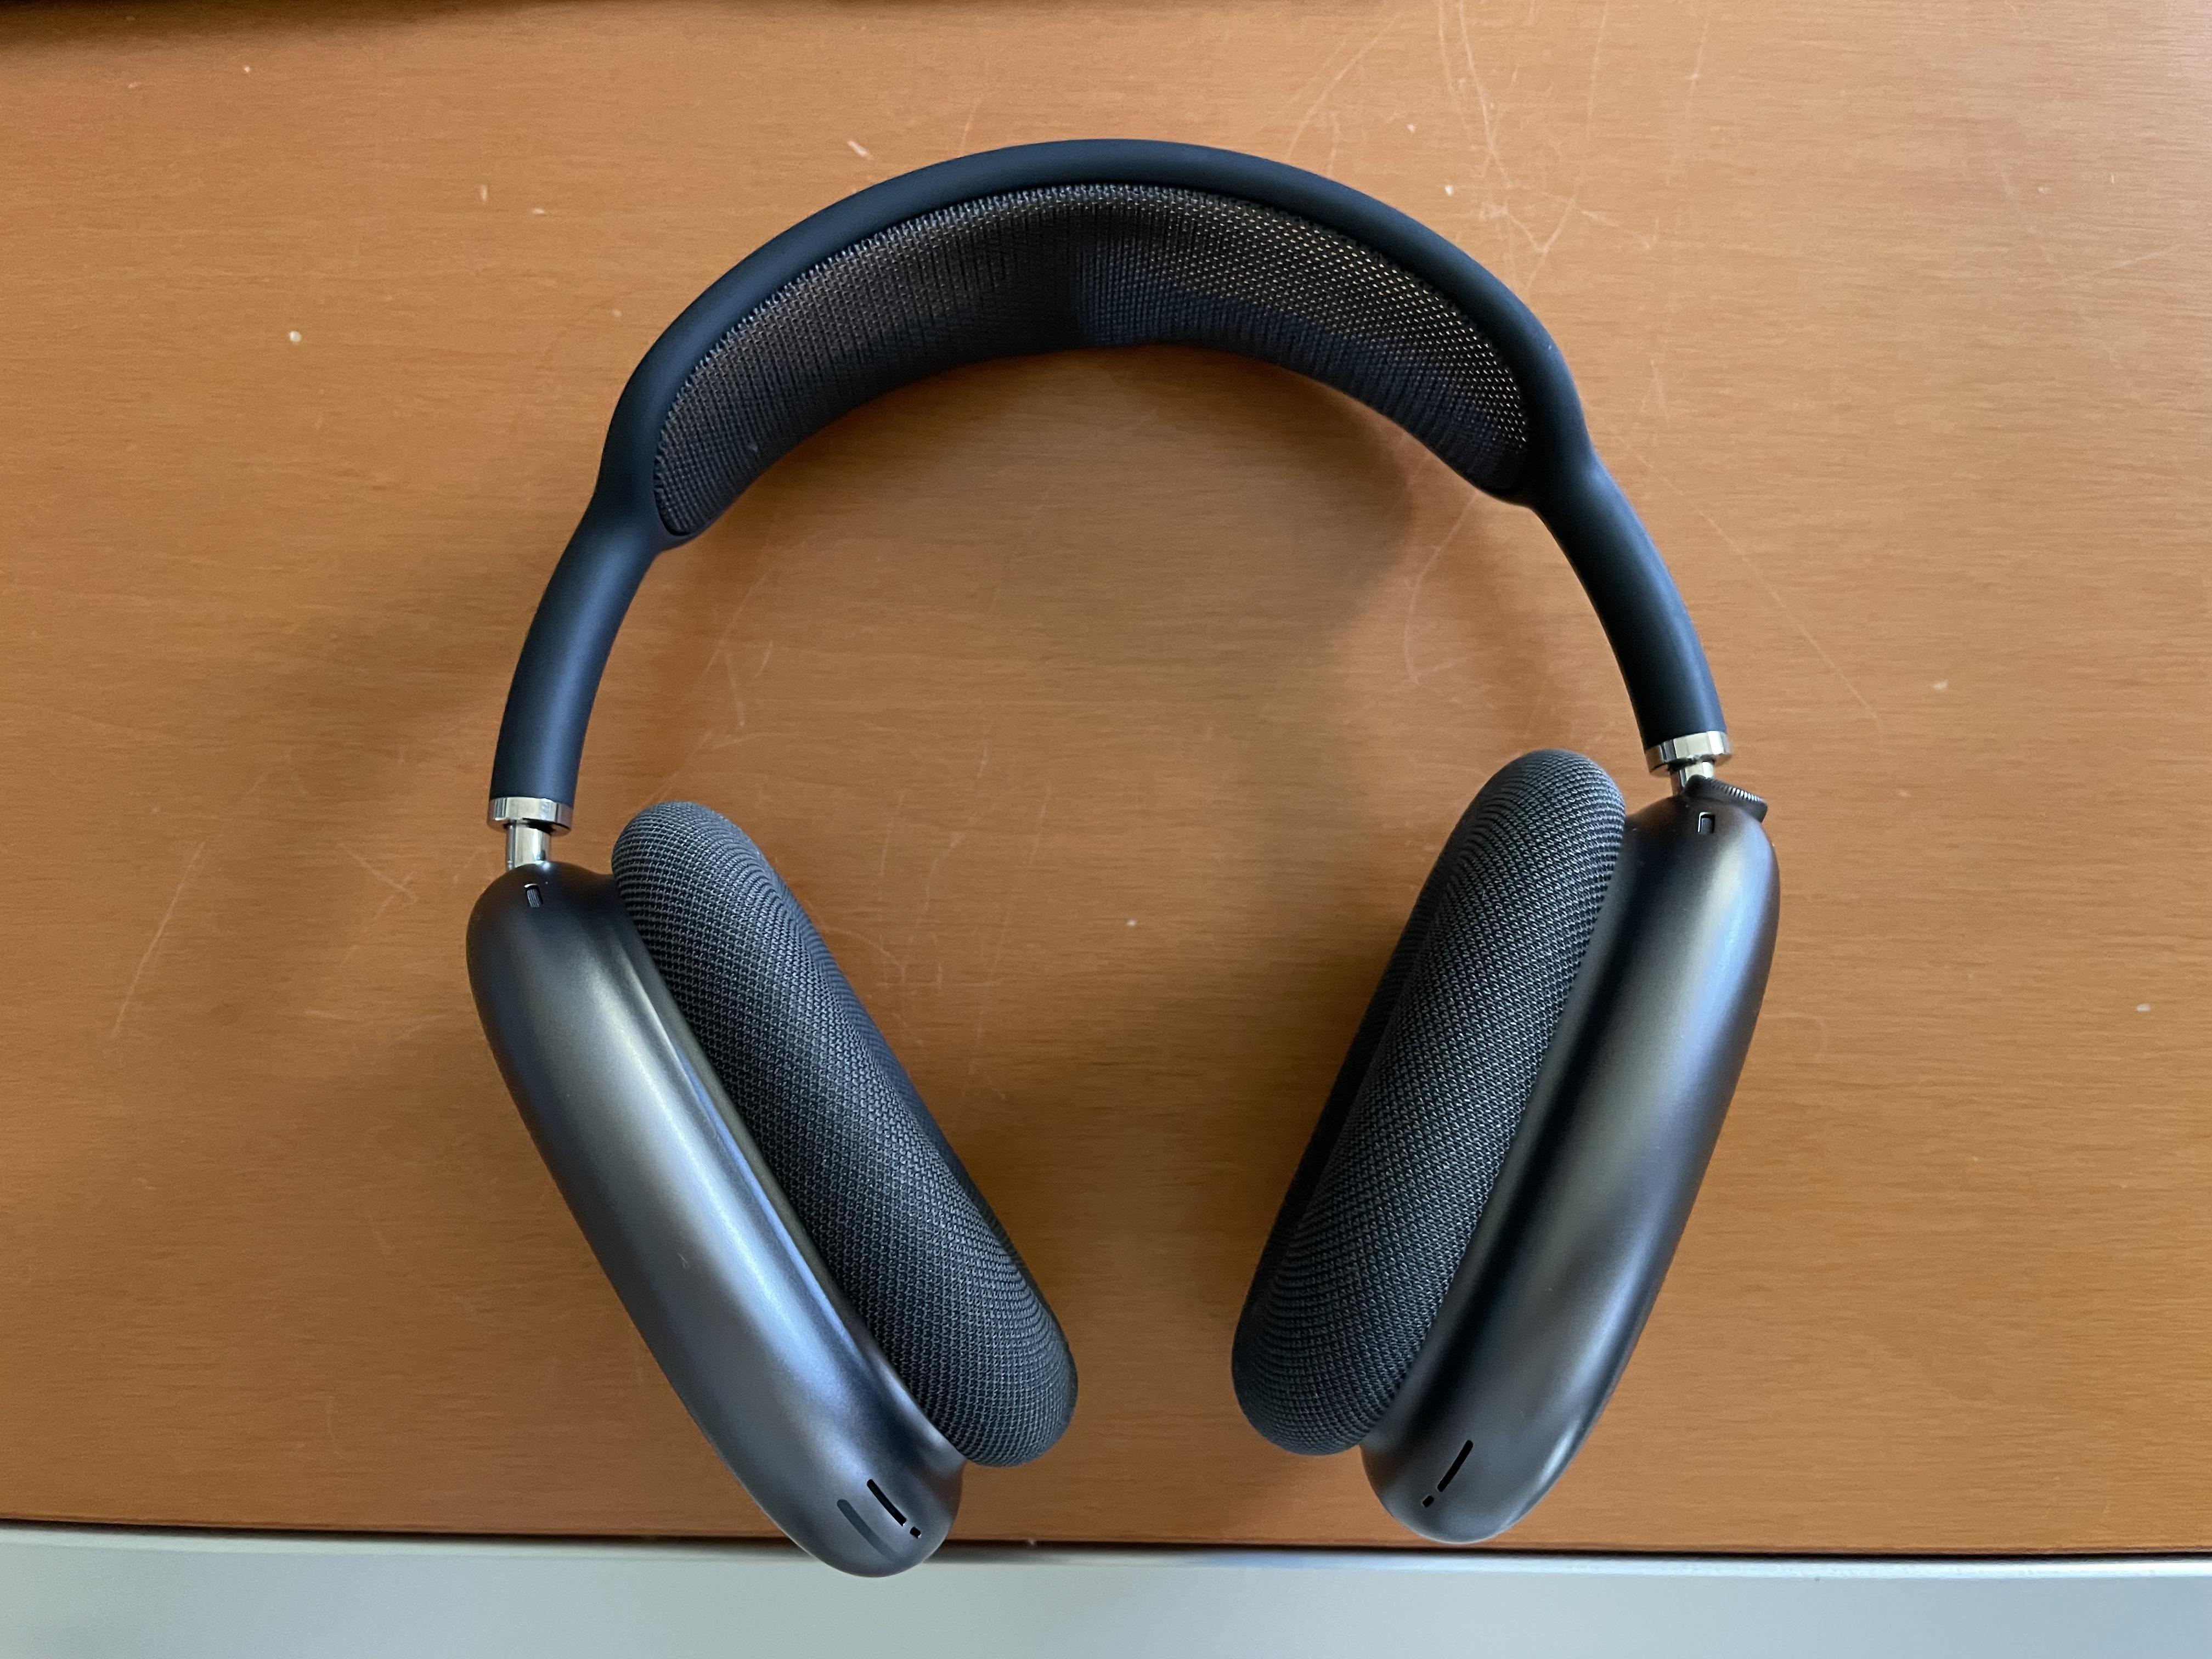headphones: (465, 141, 1787, 1584)
